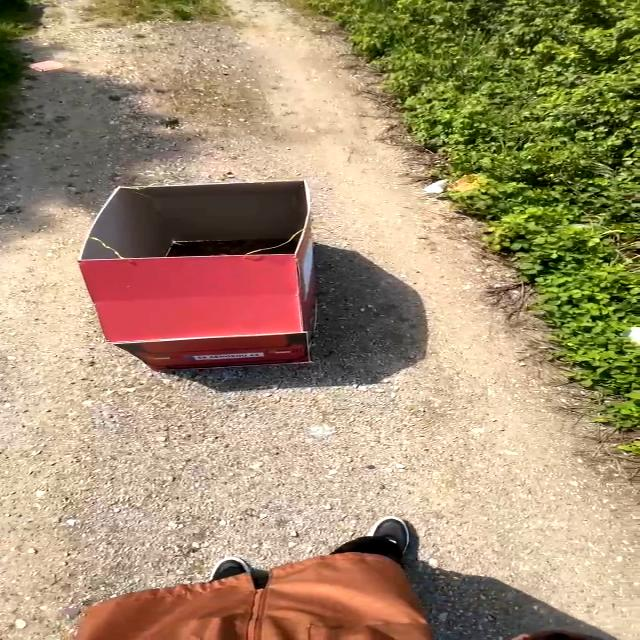red_car: (63, 175, 370, 391)
